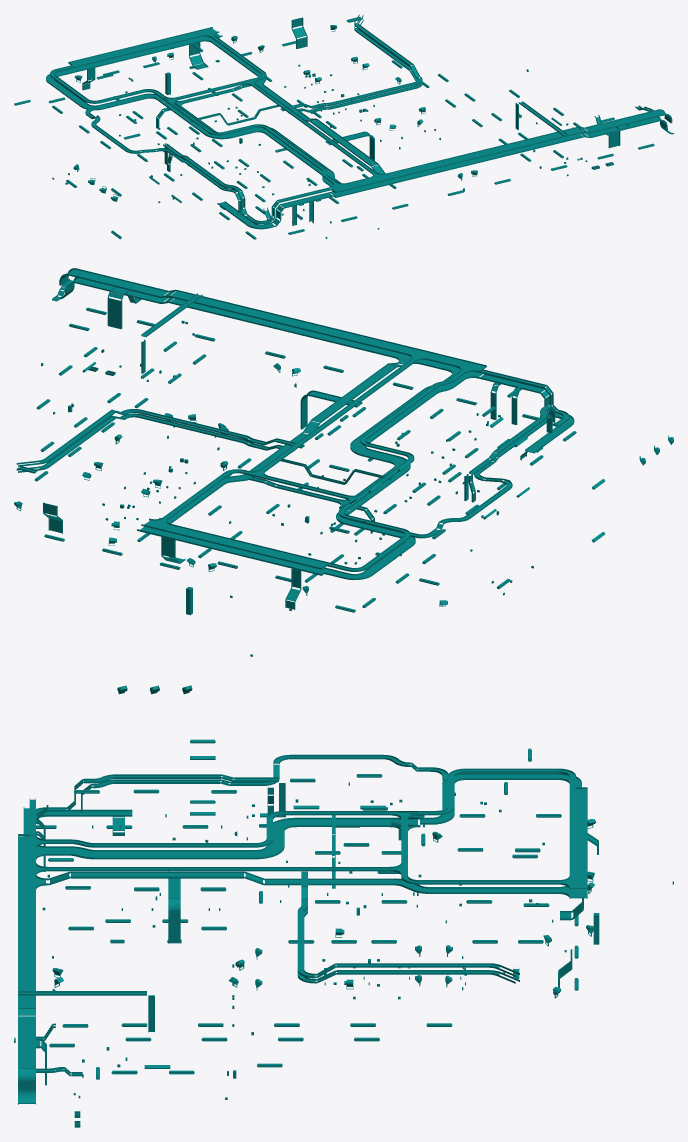
File: HULDRA-HB-ELEC.obj
3 renders of one model, top to bottom at view 1: azimuth 30°, elevation 25°; view 2: azimuth 150°, elevation 25°; view 3: azimuth 270°, elevation 25°, orthographic. The views are drawn at different scales.
Visible parts, largest first — view 1: Box.014_Mesh.17142, Box.142_Mesh.17316, Box.002_Mesh.17126, Box.130_Mesh.17299, Box.008_Mesh.17134, Box.204_Mesh.17400, Box.088_Mesh.17242, Box.013_Mesh.17141, Box.141_Mesh.17315; view 2: Box.014_Mesh.17142, Box.002_Mesh.17126, Box.142_Mesh.17316, Box.130_Mesh.17299, Box.008_Mesh.17134, Box.088_Mesh.17242, Box.204_Mesh.17400; view 3: Box.014_Mesh.17142, Box.002_Mesh.17126, Box.228_Mesh.17433, Box.087_Mesh.17241, Box.008_Mesh.17134, Box.204_Mesh.17400, Box.088_Mesh.17242, Box.086_Mesh.17240, Box.222_Mesh.17425.
Part boxes in pixels (x1,y1,x2,y2): Box.014_Mesh.17142: [386, 128, 582, 177]; Box.142_Mesh.17316: [398, 133, 582, 180]; Box.002_Mesh.17126: [70, 32, 200, 66]; Box.130_Mesh.17299: [71, 38, 200, 71]; Box.008_Mesh.17134: [585, 110, 664, 131]; Box.204_Mesh.17400: [311, 120, 377, 165]; Box.088_Mesh.17242: [253, 84, 375, 173]; Box.013_Mesh.17141: [393, 131, 584, 178]; Box.141_Mesh.17315: [404, 136, 584, 180]; Box.014_Mesh.17142: [171, 291, 415, 353]; Box.002_Mesh.17126: [164, 525, 328, 569]; Box.142_Mesh.17316: [171, 298, 400, 356]; Box.130_Mesh.17299: [164, 532, 328, 574]; Box.008_Mesh.17134: [69, 269, 167, 297]; Box.088_Mesh.17242: [260, 360, 414, 471]; Box.204_Mesh.17400: [312, 365, 394, 422]; Box.014_Mesh.17142: [18, 875, 35, 1008]; Box.002_Mesh.17126: [570, 789, 587, 877]; Box.228_Mesh.17433: [94, 851, 256, 857]; Box.087_Mesh.17241: [47, 869, 390, 871]; Box.008_Mesh.17134: [18, 1016, 35, 1068]; Box.204_Mesh.17400: [71, 873, 243, 876]; Box.088_Mesh.17242: [46, 868, 391, 869]; Box.086_Mesh.17240: [46, 867, 391, 868]; Box.222_Mesh.17425: [294, 819, 391, 825].
Bounding box in the file's own units: 45.42 × 6.19 × 34.65.
